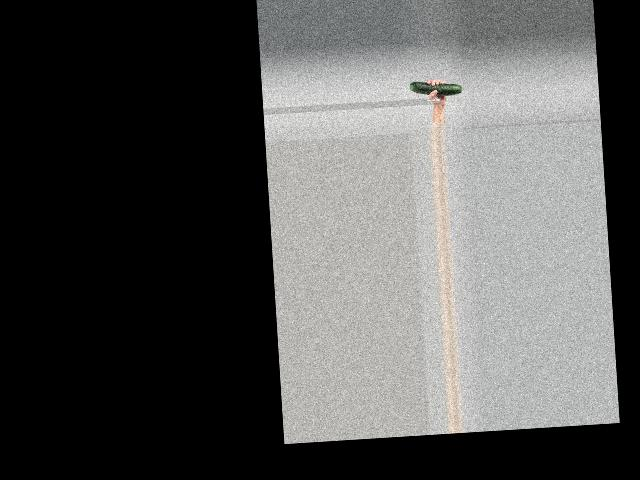cucumber: (409, 78, 461, 97)
